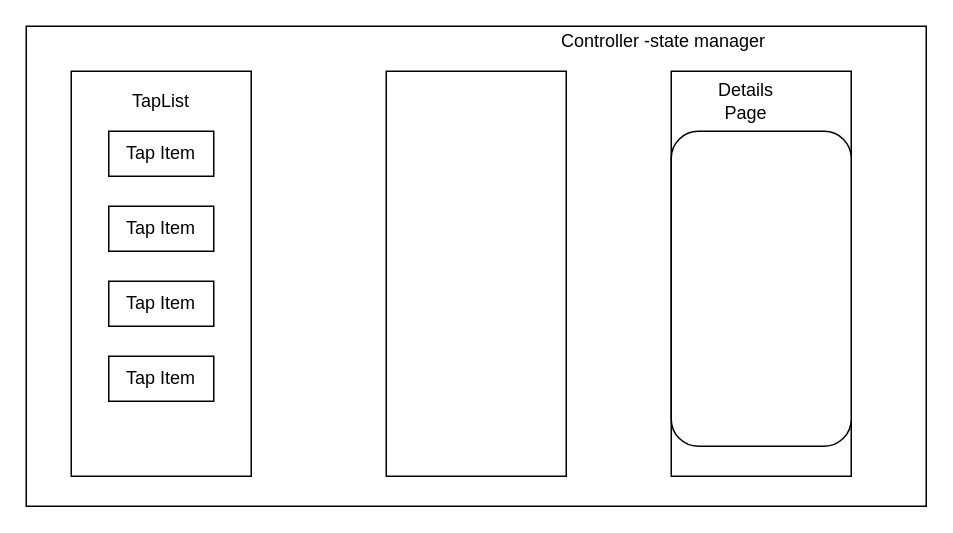
Some shapes in this 953 by 533 pixel diagram are drawn without their labels. The box of each missing label's shape, as (x1, y1, x2, y2) in pixels:
Modal from npm package: (670, 130, 851, 446)
TapForm: (385, 70, 566, 476)
